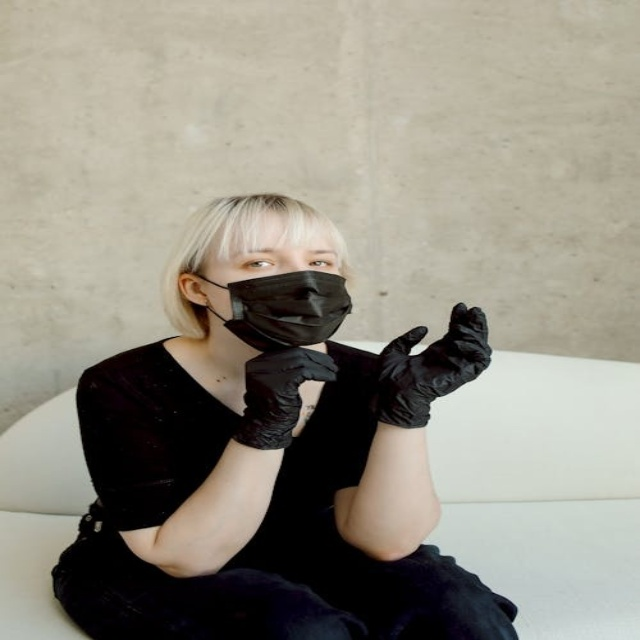Guantes: (370, 299, 498, 430), (228, 348, 344, 452)
Mascara: (203, 270, 352, 349)
Sin_gafas: (225, 246, 344, 276)
